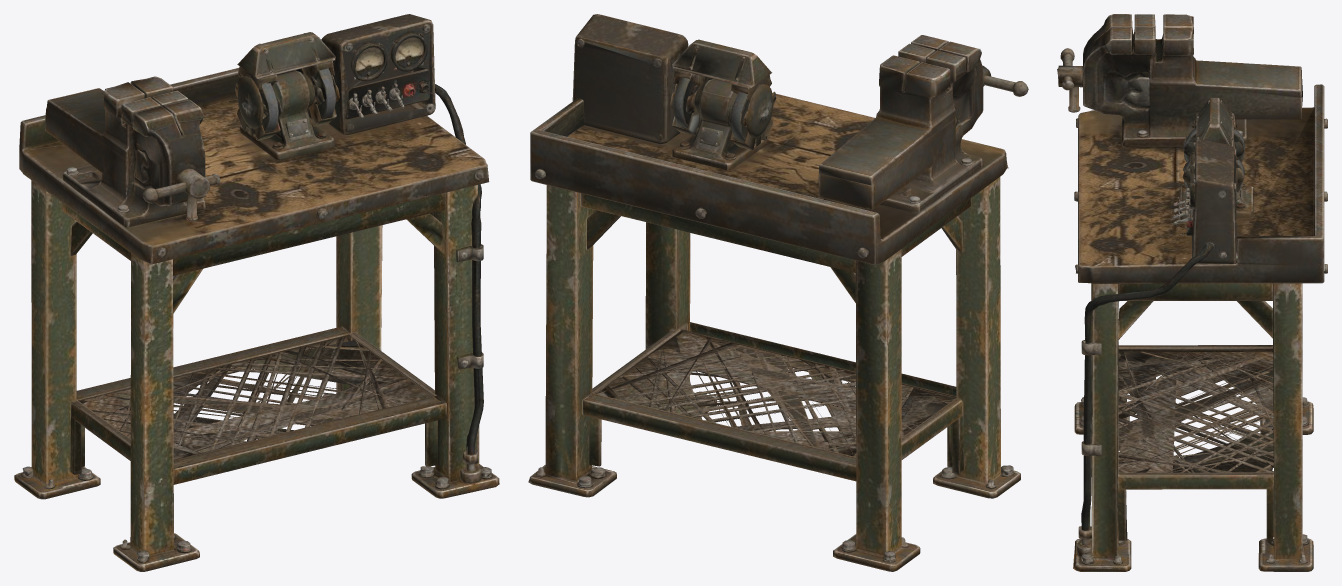
Rendered from train-bench.glb.
3 renders of one model, left to right at view 1: azimuth 30°, elevation 25°; view 2: azimuth 150°, elevation 25°; view 3: azimuth 270°, elevation 25°, orthographic. The views are drawn at different scales.
Parts seen in each view (by area): view 1: train-bench; view 2: train-bench; view 3: train-bench.
Boxes of the visible parts, x1,y1,x2,y2 form: train-bench: (14,14,499,571); train-bench: (528,14,1028,571); train-bench: (1057,14,1327,571).
Size of the model in its own units: 1.02 by 1.12 by 0.681.
Materials: 1 (1 with a texture image).
